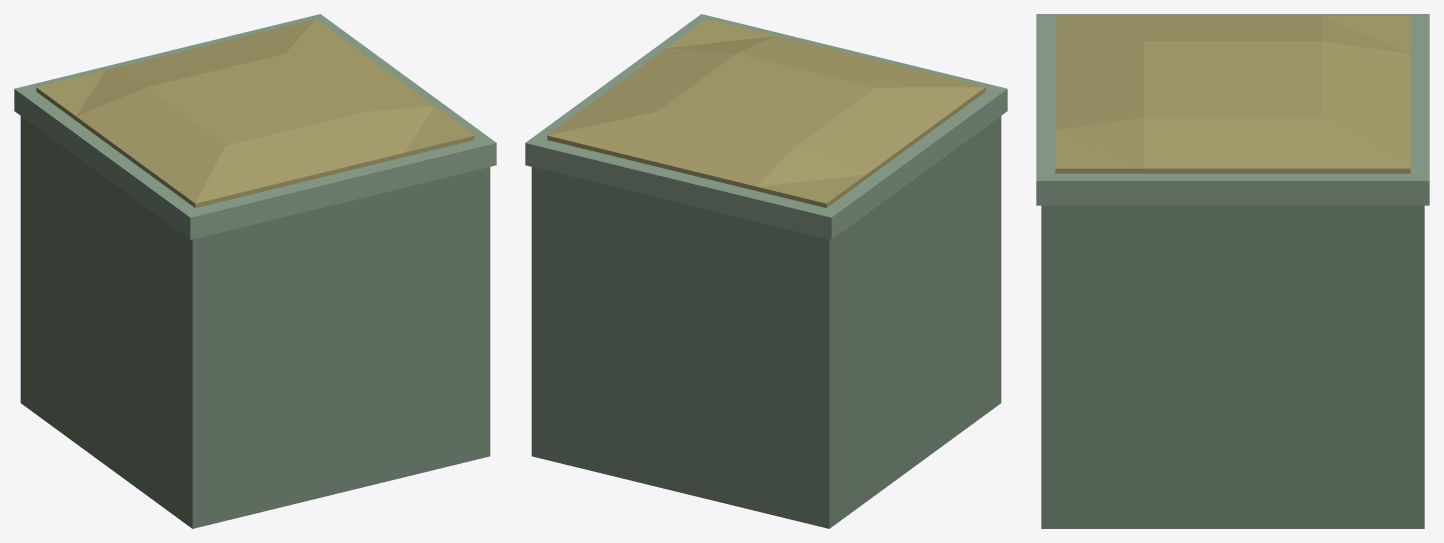
Rendered from wall1.fbx.
3 renders of one model, left to right at view 1: azimuth 30°, elevation 25°; view 2: azimuth 150°, elevation 25°; view 3: azimuth 270°, elevation 25°, orthographic. The views are drawn at different scales.
Parts seen in each view (by area): view 1: Cube; view 2: Cube; view 3: Cube.
Part boxes in pixels (box(x1,y1,x2,y2)): Cube: box(14, 14, 496, 528); Cube: box(525, 14, 1007, 528); Cube: box(1036, 14, 1429, 528).
Size of the model in its own units: 138 by 142 by 137.
